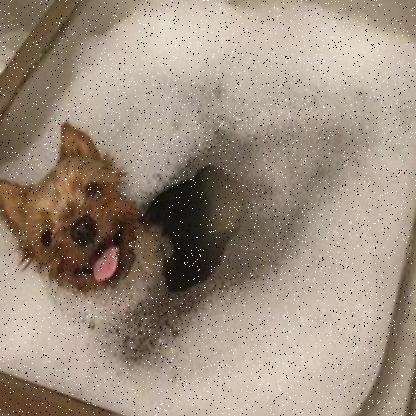dog: (0, 99, 160, 329)
